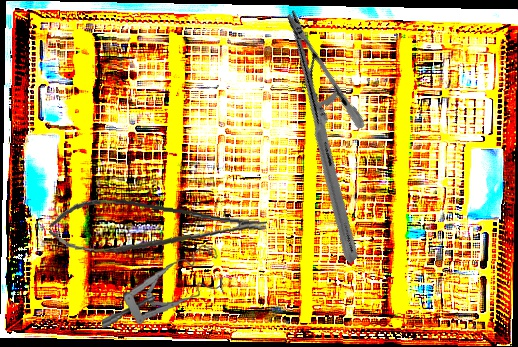Micro Scissor: (47, 190, 268, 273)
Needle Holder: (197, 10, 447, 264)
Speculum: (95, 243, 227, 330)
